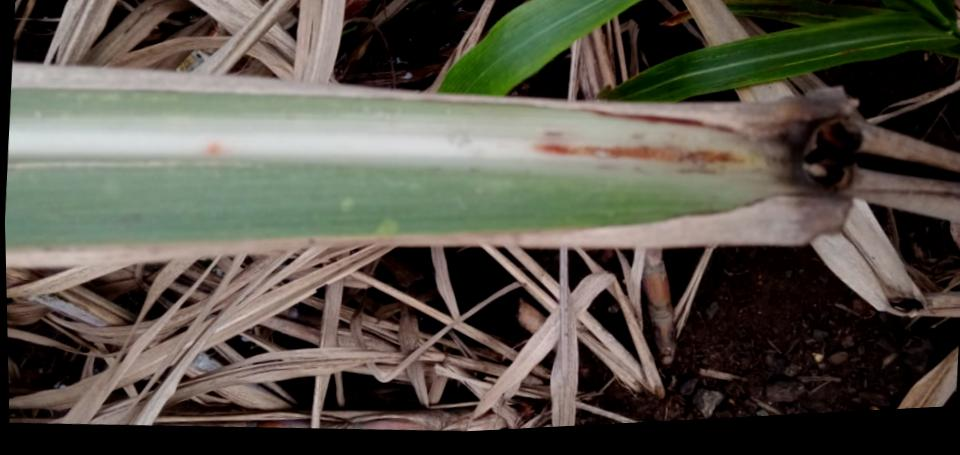RedRot: (524, 139, 746, 167), (204, 137, 224, 156)
